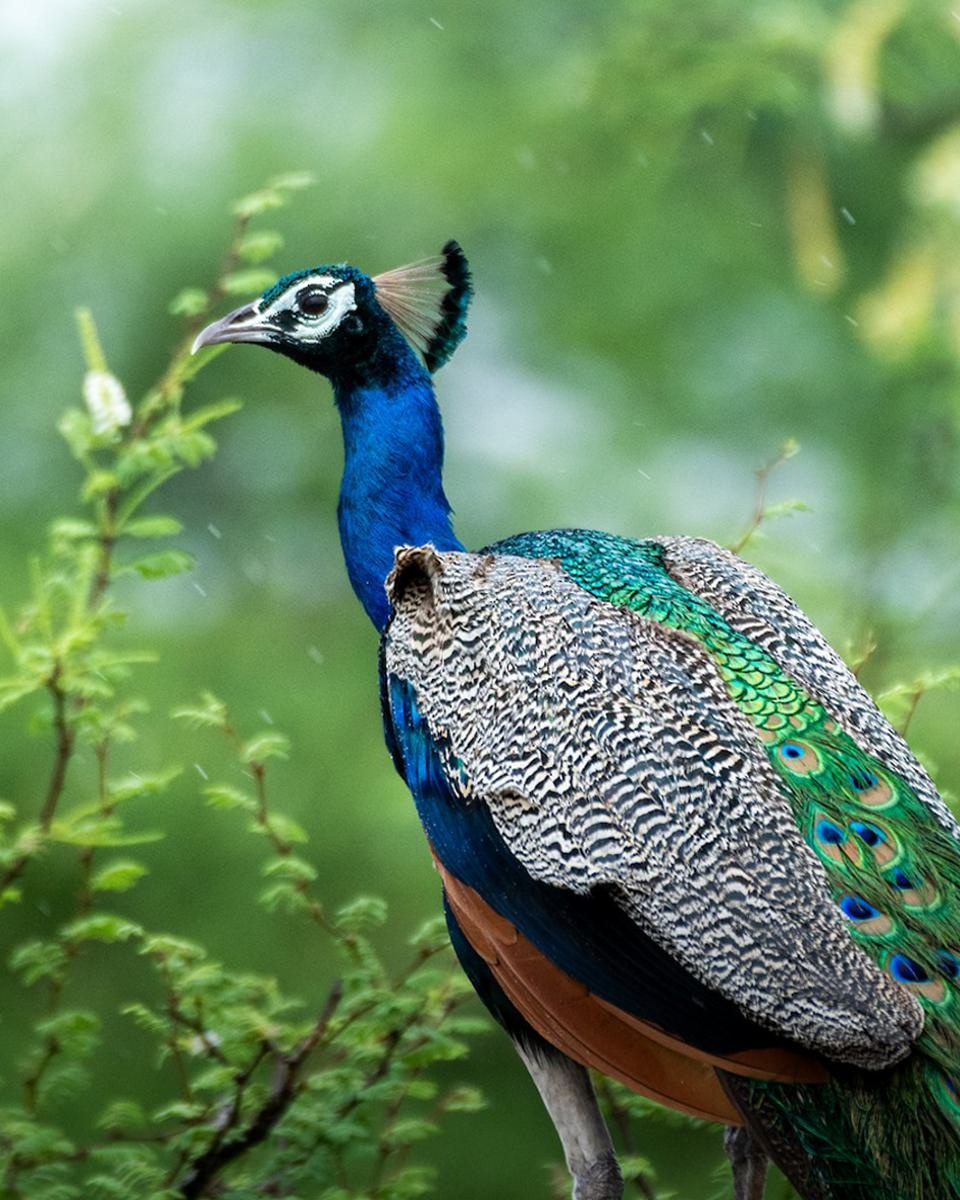peacock: (196, 222, 960, 1162)
